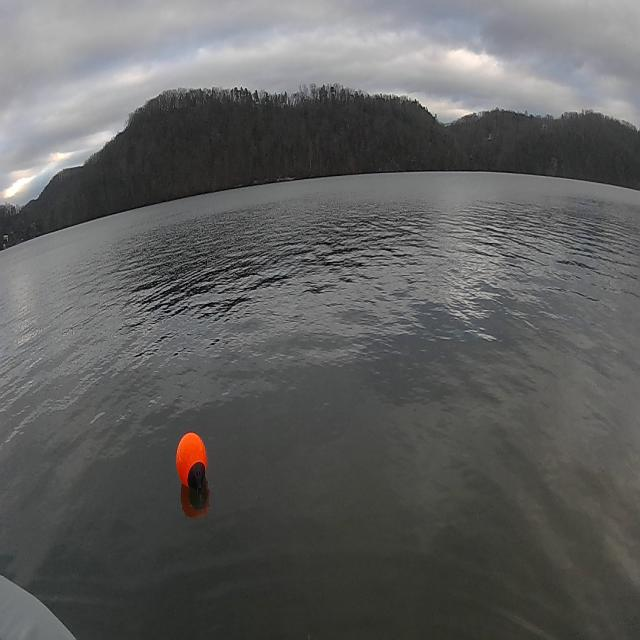Buoy: (170, 418, 215, 504)
